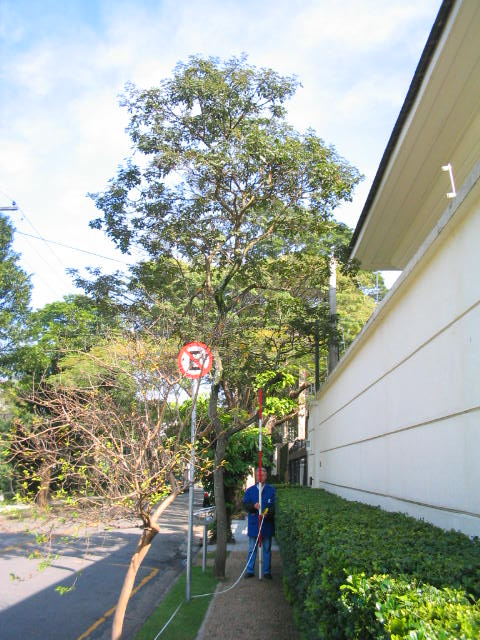crown: (88, 52, 362, 385)
stem: (93, 530, 156, 639), (202, 433, 236, 581)
stick: (251, 388, 266, 581)
tree: (85, 51, 363, 581), (3, 345, 212, 638)
